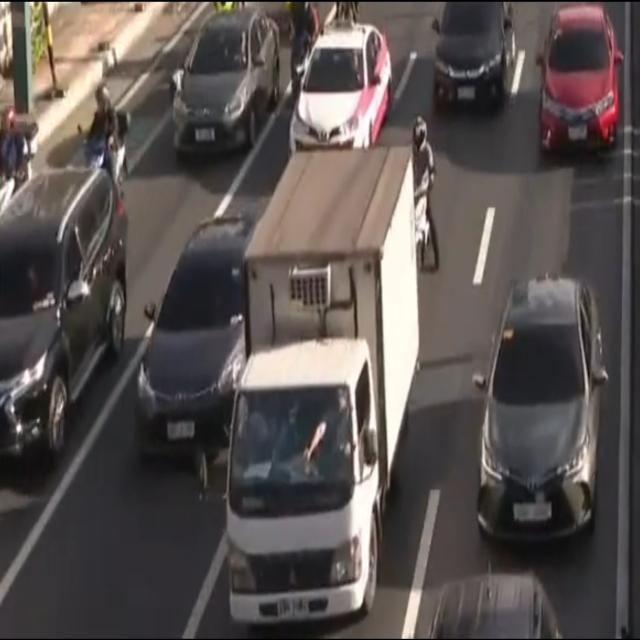Motorcycle: (82, 80, 129, 207), (405, 118, 439, 276)
SUV: (0, 166, 131, 474)
Sedan: (474, 279, 604, 542), (133, 215, 270, 461), (169, 7, 281, 154), (288, 27, 392, 167), (540, 8, 618, 151), (433, 0, 515, 114)
Truck: (236, 147, 414, 625)
